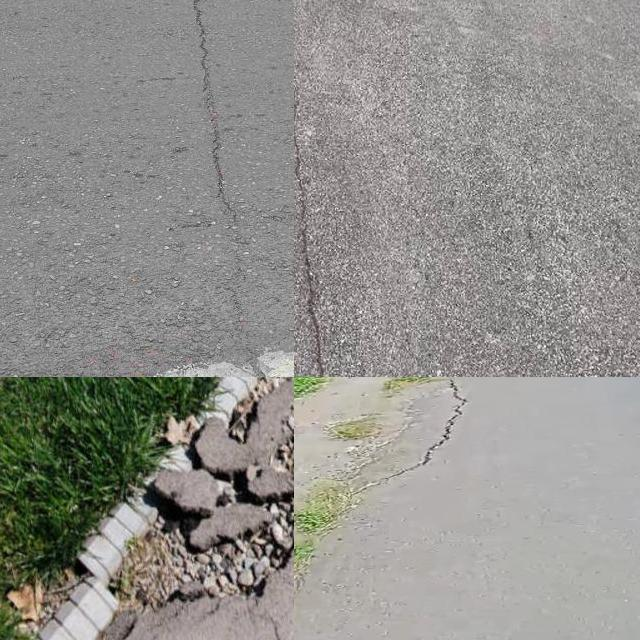Memanjang: (186, 0, 277, 377), (294, 0, 349, 377)
Pinggir: (26, 377, 294, 622), (294, 377, 492, 621)
